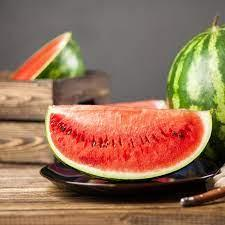non-mango: (44, 103, 212, 181), (165, 15, 224, 160)
